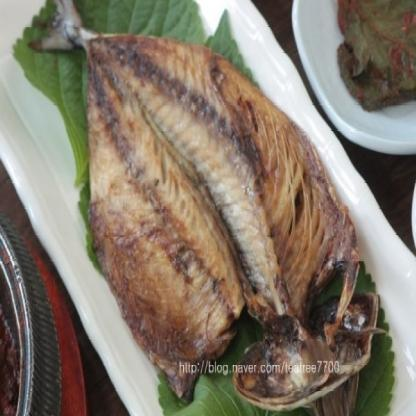Peixe: (32, 0, 380, 408)
